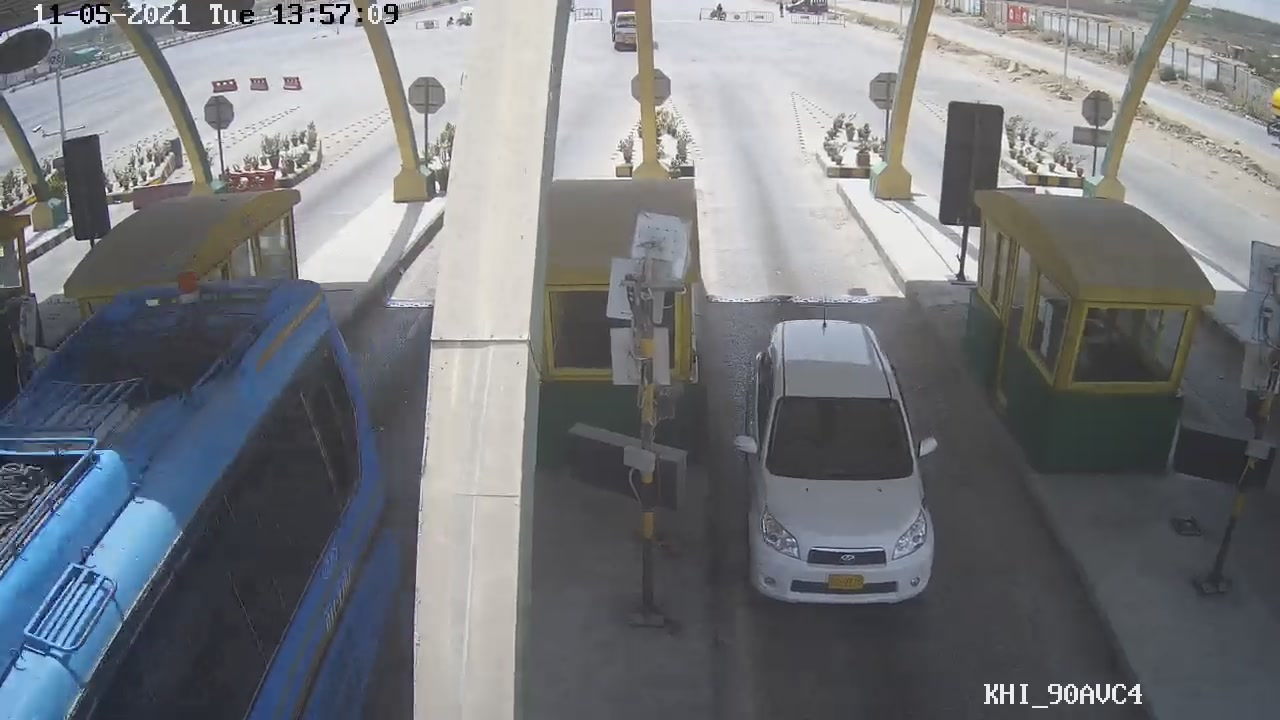F1: (725, 303, 948, 610)
